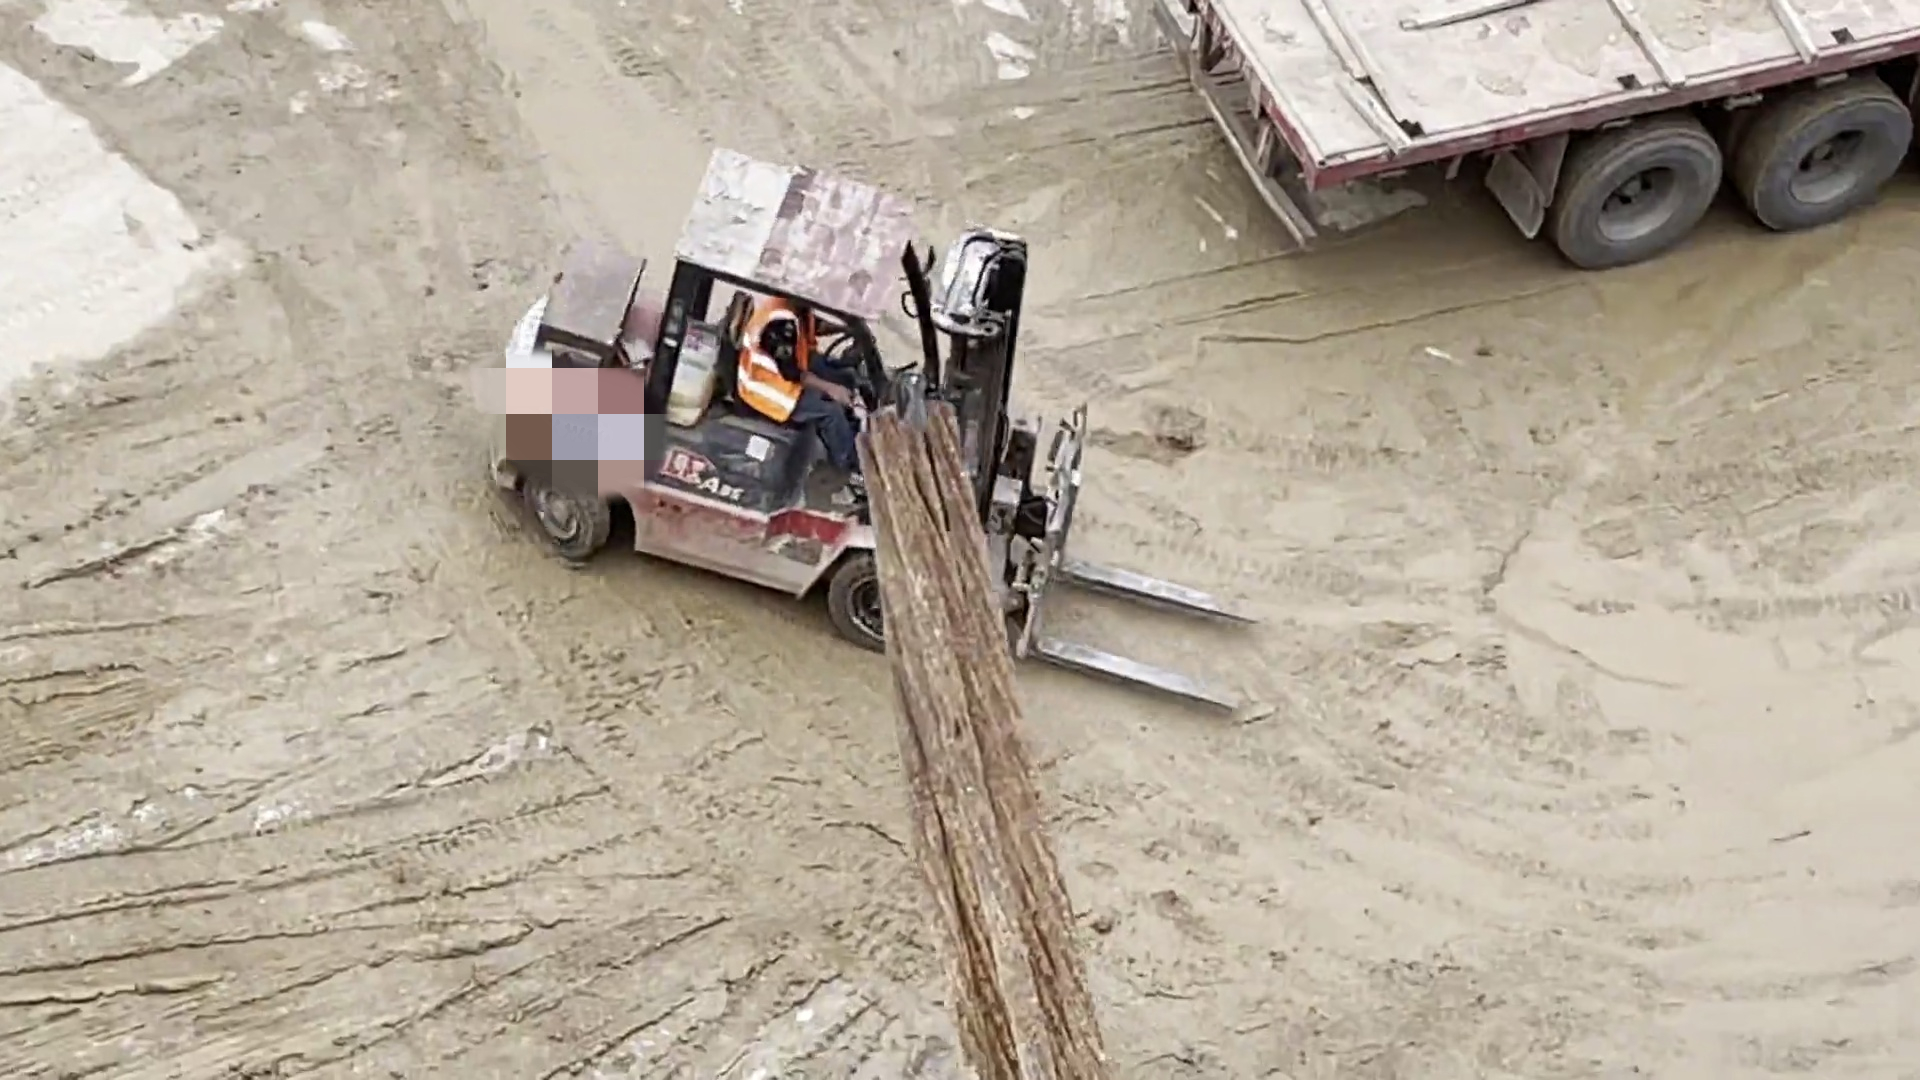vest: (738, 307, 877, 509), (732, 299, 808, 425)
